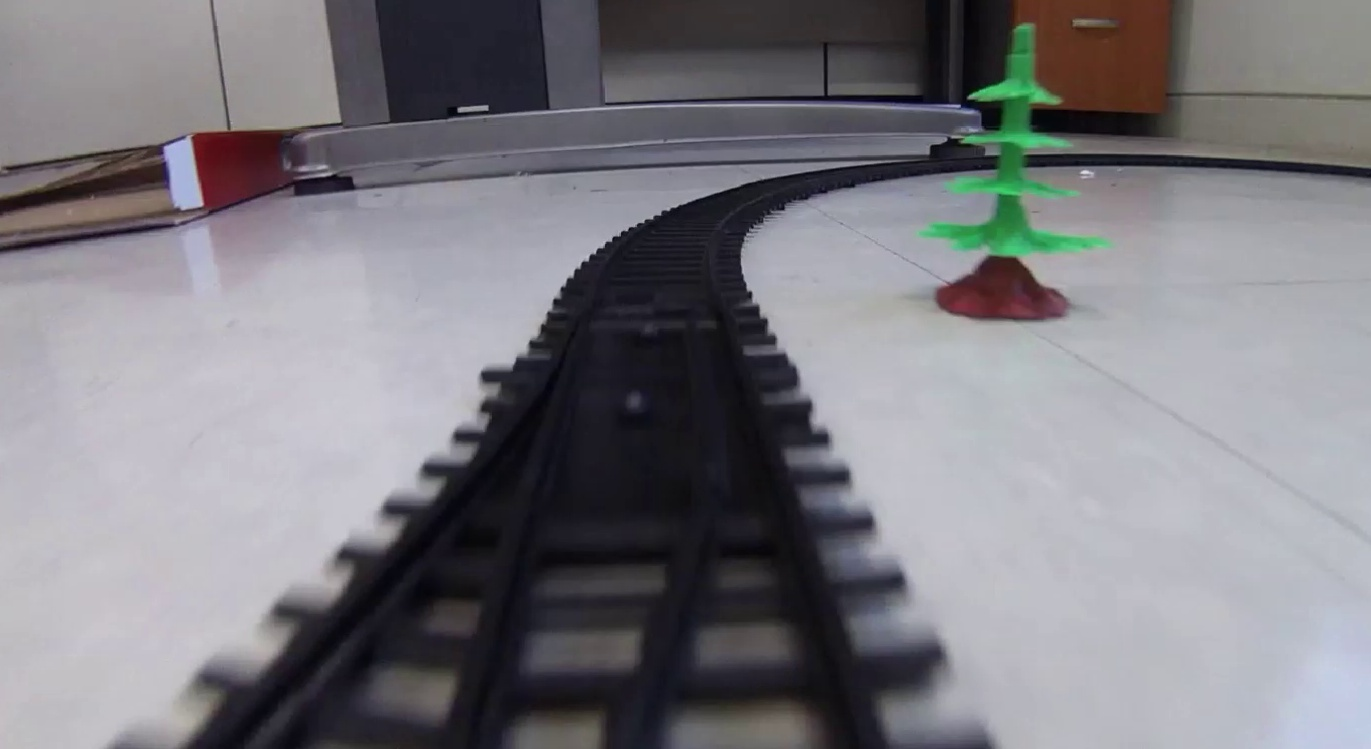tree: (916, 23, 1113, 324)
